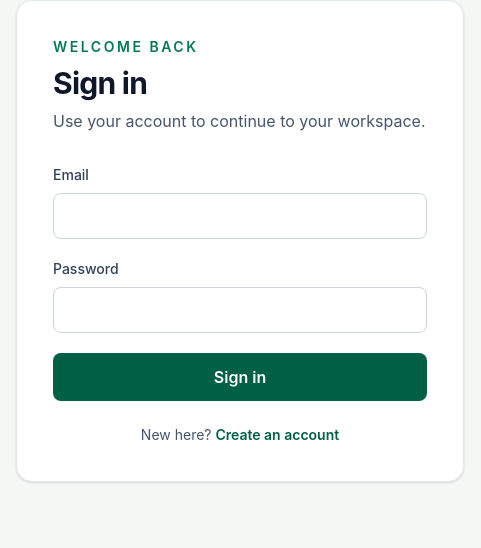
Test: LoginPage › shows validation errors for malformed email and a password under 12 characters
Type "not-an-email" into the field labelled "Email" at (240, 216), box [53, 193, 427, 239]
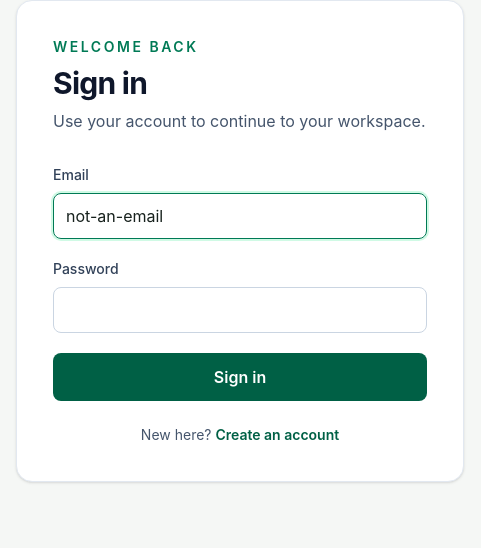
Type "too-short" into the password field labelled "Password" at (240, 310), box [53, 287, 427, 333]
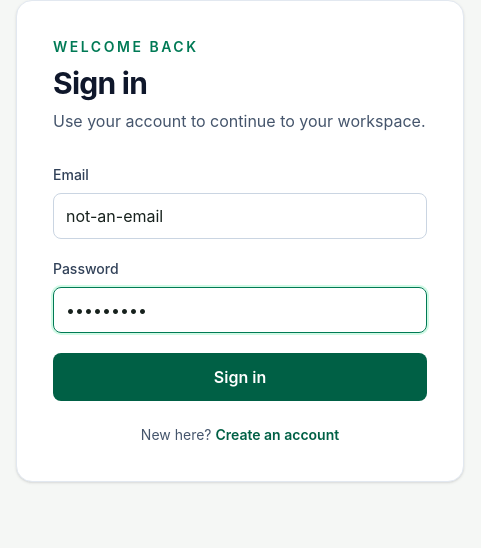
Click the button "Sign in" at (240, 377), box [53, 353, 427, 401]
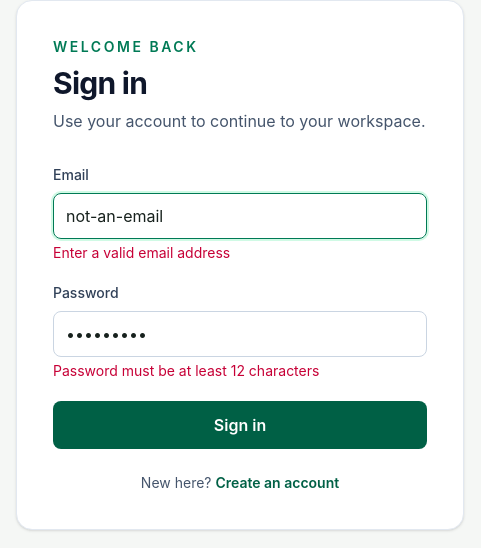
expect the text "Enter a valid email address" is shown: met, box [53, 244, 230, 261]
expect the text "Password must be at least 12 characters" is shown: met, box [53, 362, 319, 379]
